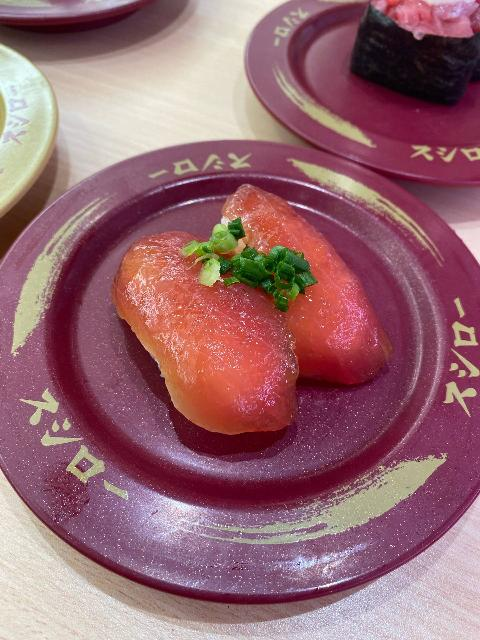jangold: (1, 38, 73, 233)
janred: (31, 153, 460, 548), (224, 0, 480, 216), (0, 0, 208, 29)
